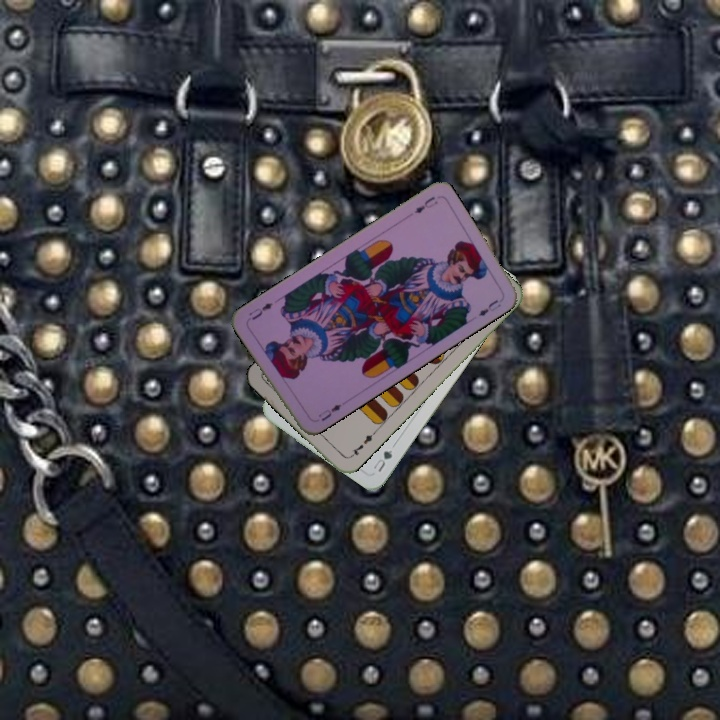E7: (345, 428, 378, 461)
EU: (314, 398, 348, 424), (410, 192, 441, 216)
GU: (368, 446, 395, 475)
